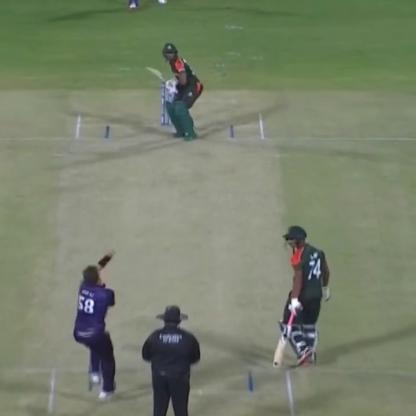bat: (268, 308, 296, 376), (139, 59, 182, 95)
pitch: (44, 108, 296, 416)
